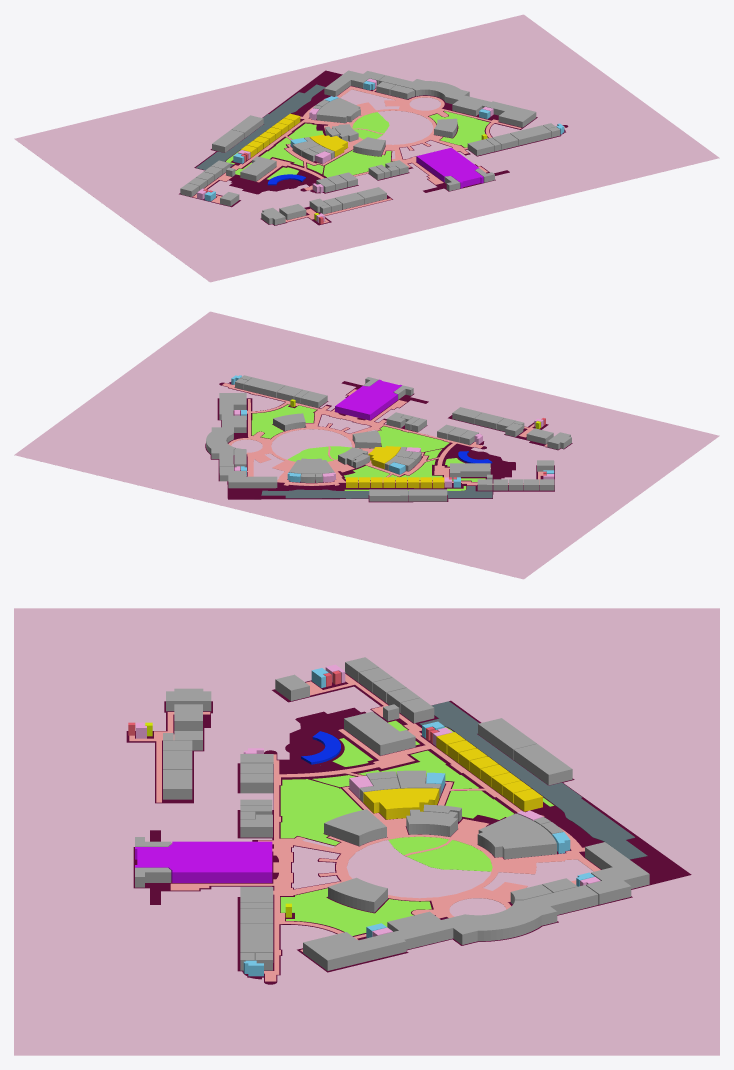
File: njc-l2-v2-31-3.glb
3 renders of one model, top to bottom at view 1: azimuth 30°, elevation 25°; view 2: azimuth 150°, elevation 25°; view 3: azimuth 270°, elevation 25°, orthographic. The views are drawn at different scales.
Parts seen in each view (by area): view 1: Grey, None, Base, Foot, Grass, Hall, Drive, LT5; view 2: Grey, None, Base, Foot, Grass, Hall, Drive, LT5; view 3: Grey, None, Grass, Foot, Base, Hall, Drive, LT5.
Boxes of the visible parts, left/top/right/bottom form: Grey: left=14, top=14, right=719, bottom=282; None: left=180, top=70, right=560, bottom=225; Base: left=179, top=70, right=568, bottom=225; Foot: left=193, top=86, right=565, bottom=223; Grass: left=226, top=111, right=489, bottom=179; Hall: left=416, top=147, right=483, bottom=188; Drive: left=196, top=84, right=325, bottom=170; LT5: left=309, top=134, right=347, bottom=156; Grey: left=14, top=311, right=719, bottom=579; None: left=206, top=375, right=571, bottom=501; Base: left=205, top=381, right=572, bottom=502; Foot: left=222, top=383, right=547, bottom=485; Grass: left=251, top=404, right=485, bottom=490; Hall: left=335, top=379, right=401, bottom=420; Drive: left=261, top=486, right=492, bottom=498; LT5: left=368, top=446, right=400, bottom=468; Grey: left=14, top=608, right=719, bottom=1055; None: left=135, top=657, right=649, bottom=970; Grass: left=280, top=720, right=553, bottom=935; Foot: left=129, top=674, right=600, bottom=981; Base: left=126, top=673, right=691, bottom=984; Hall: left=135, top=841, right=272, bottom=882; Drive: left=419, top=701, right=647, bottom=859; LT5: left=363, top=788, right=439, bottom=819.
Size of the model in its own units: 18 by 0.2 by 12.
